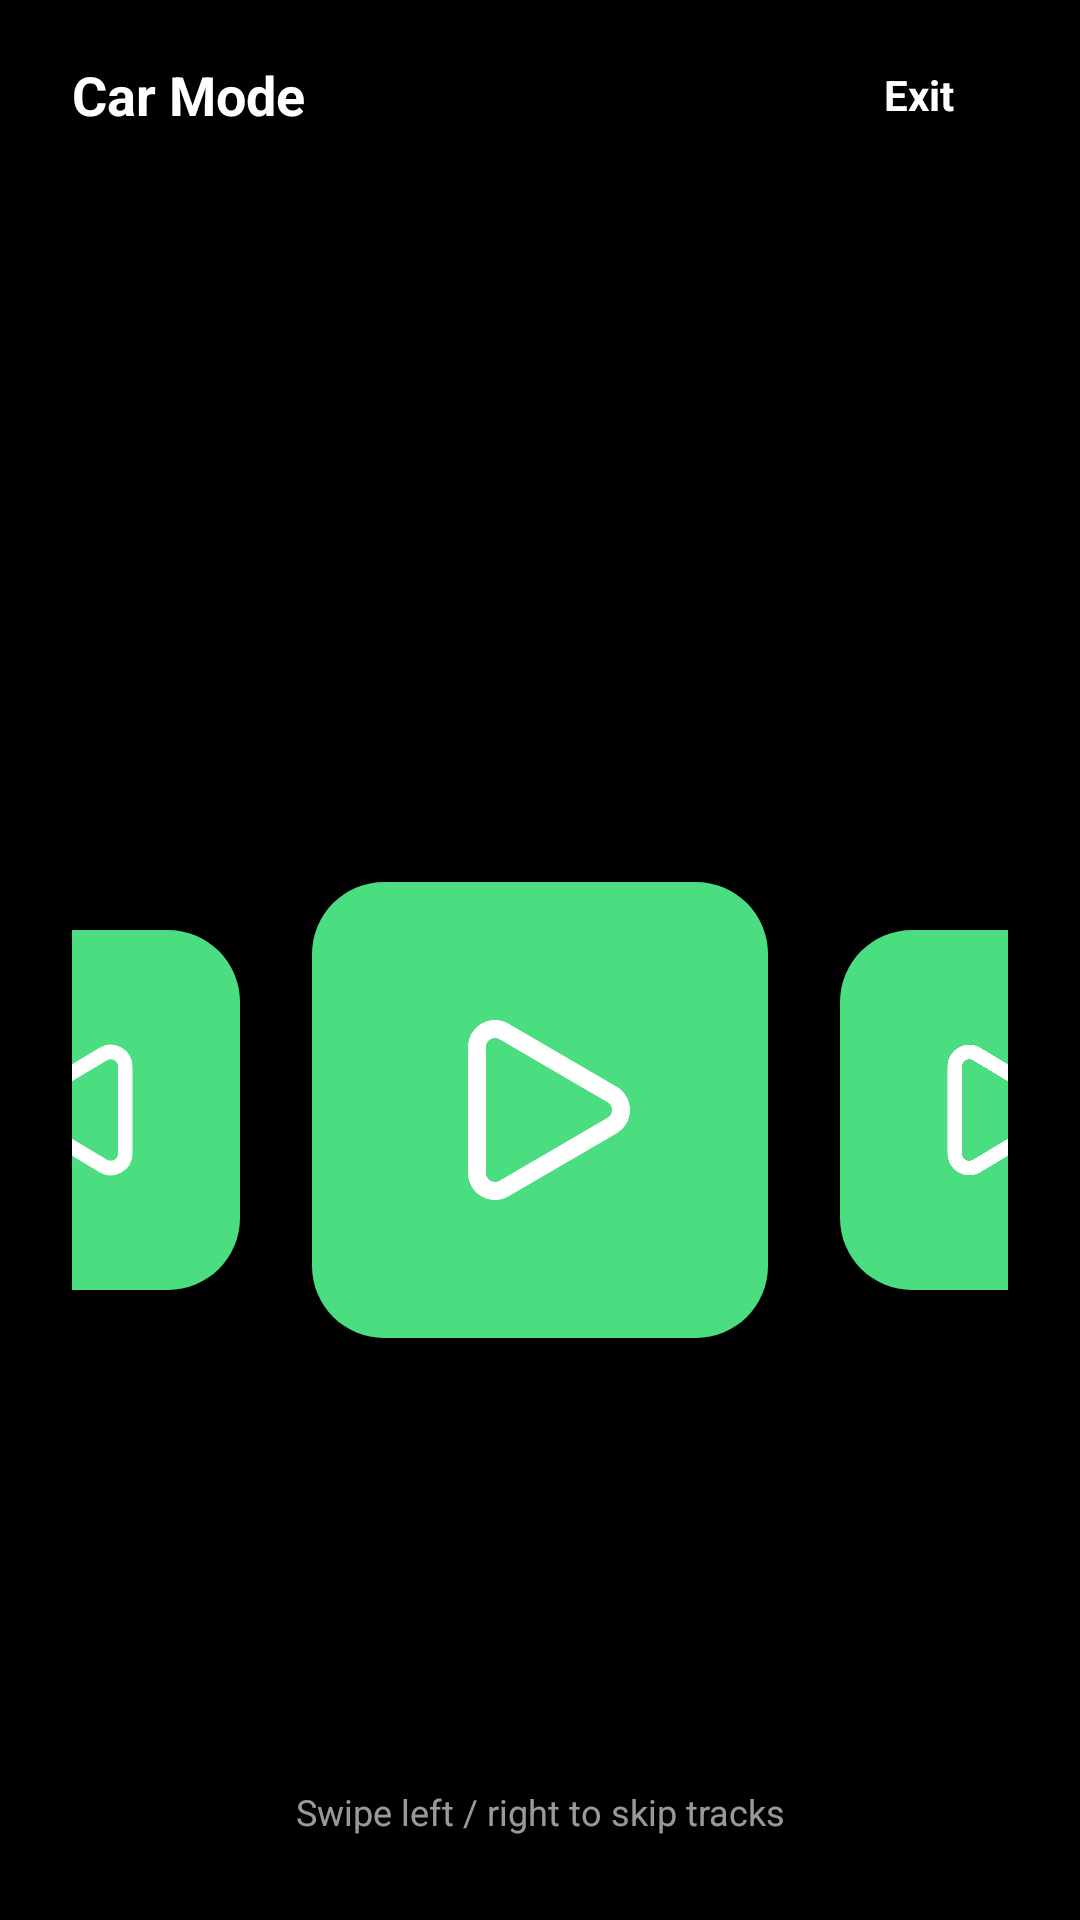

Icon bounding boxes for this 1080×1920 phone screenshot, format {"x1": x1, "y1": y1, "x2": x2, "y2": y2}:
play: {"x1": 468, "y1": 1020, "x2": 630, "y2": 1200}
